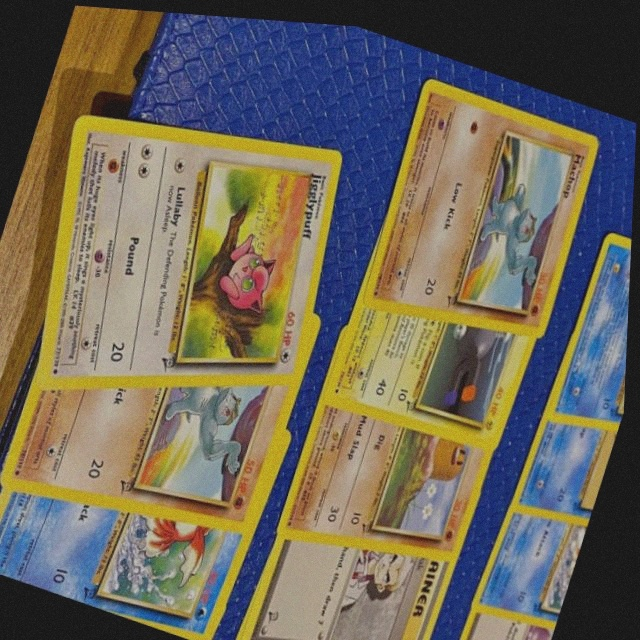card: (38, 110, 345, 389), (3, 306, 324, 530), (0, 422, 296, 640), (366, 69, 600, 329), (280, 319, 497, 554), (327, 215, 540, 443), (244, 529, 462, 640), (514, 321, 621, 517), (551, 220, 633, 421), (477, 495, 591, 620), (462, 600, 559, 640)
